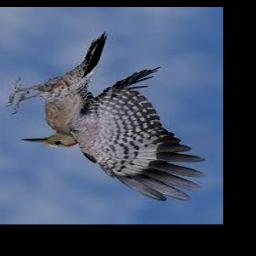Woodpecker: (6, 32, 206, 201)
